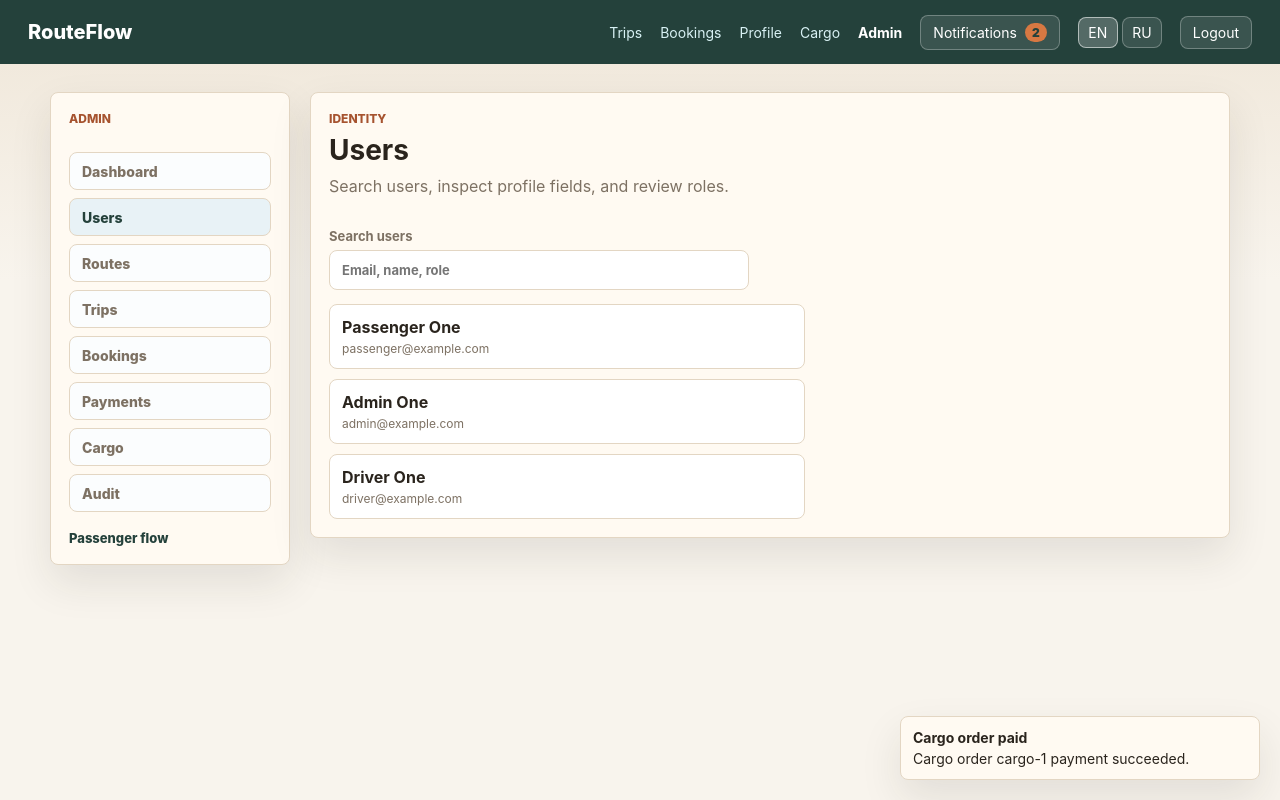
Test case: App routes › shows admin users with search, profile details, and unsupported lock action
Expected: the heading "Users" is shown, left=329, top=133, right=409, bottom=167
Type "Passenger" into the field labelled "Search users" at (539, 270), box left=329, top=250, right=749, bottom=290
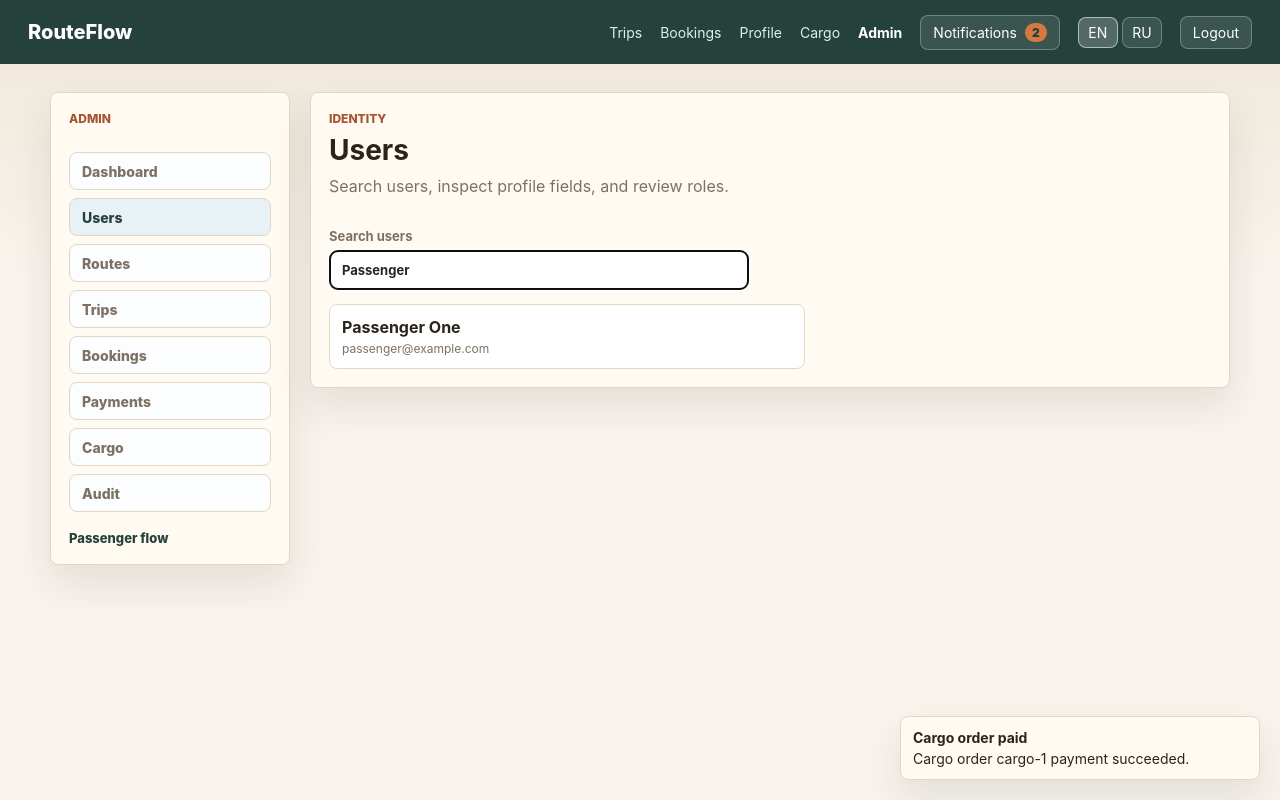
Expected: the button "Admin One" is gone
Click the button "Passenger One passenger@example.com" at (401, 327), box left=329, top=304, right=805, bottom=369
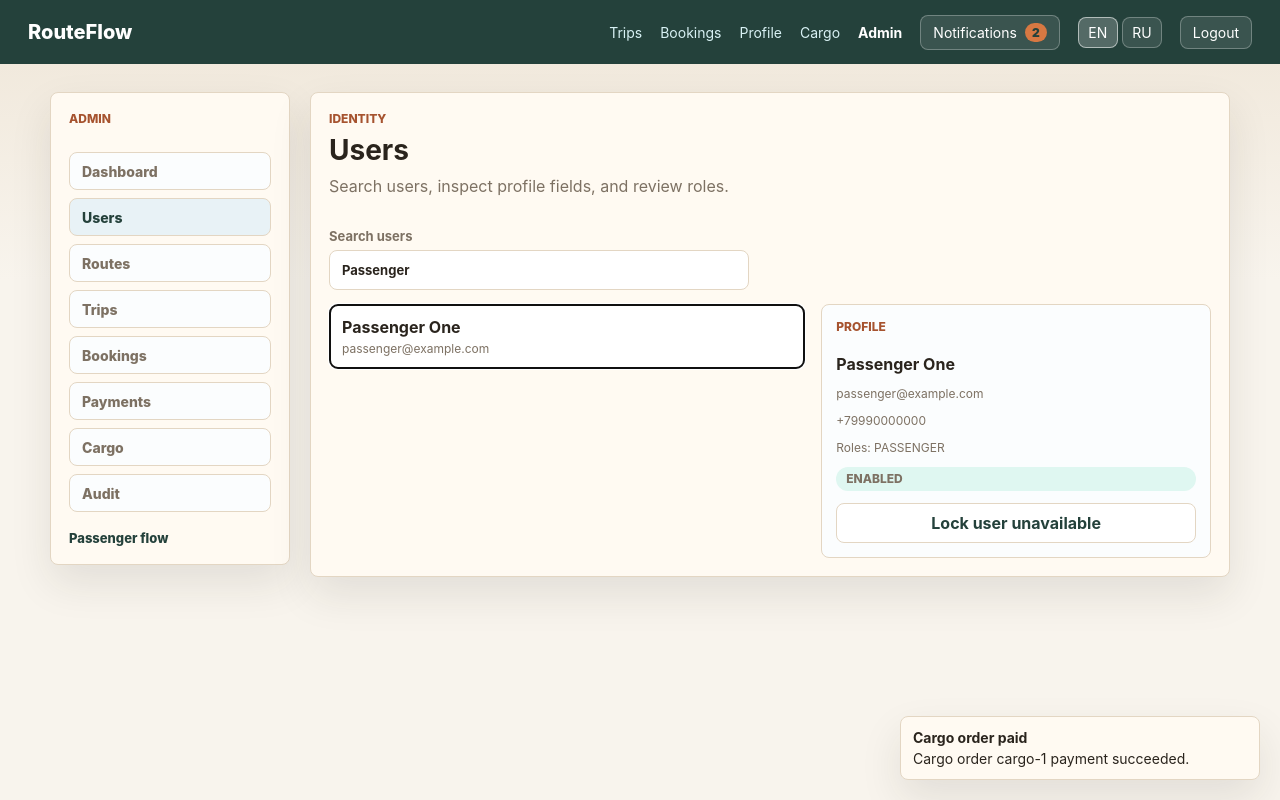
Expected: the text "Roles: PASSENGER" is shown, left=836, top=440, right=945, bottom=455
Expected: the button "Lock user unavailable" is disabled, left=836, top=503, right=1196, bottom=543
